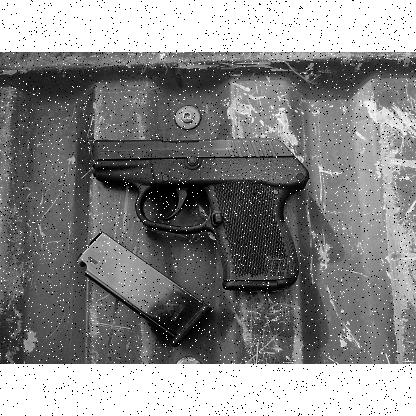gun: (93, 134, 311, 292)
